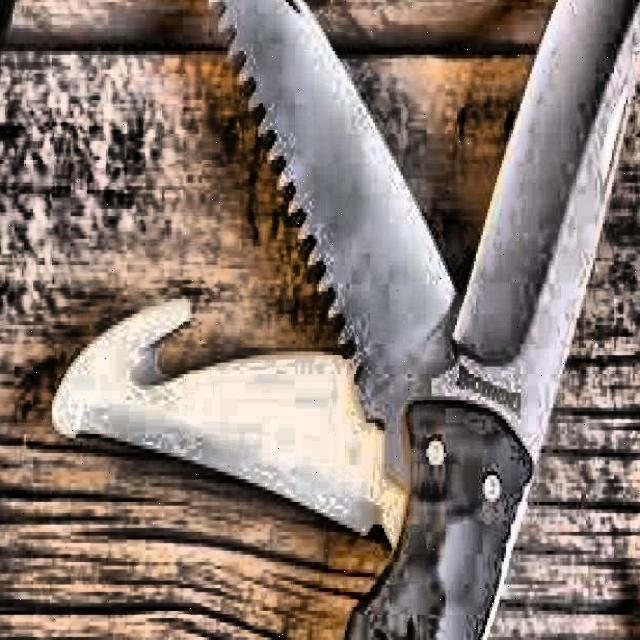knife: (335, 0, 640, 640), (205, 0, 486, 502)
